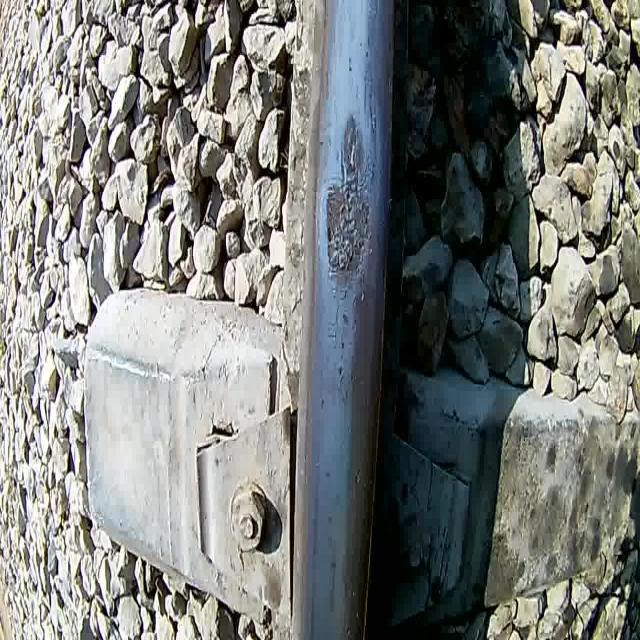Cracks: (324, 276, 356, 348), (337, 124, 362, 193), (360, 64, 379, 139)
Spallings: (324, 184, 372, 281)
Squats: (314, 109, 380, 292)
